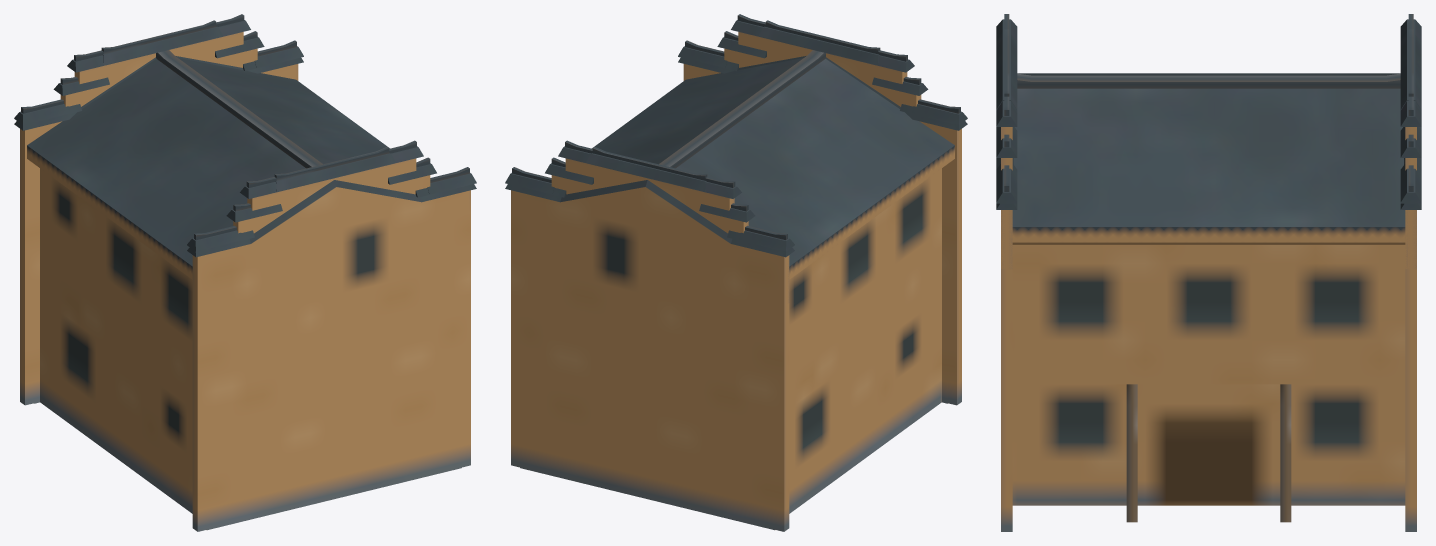
File: Hui_Building_Residential_L2_03_Mod.fbx
The picture shows the model from 3 angles, left to right: view 1: azimuth 30°, elevation 25°; view 2: azimuth 150°, elevation 25°; view 3: azimuth 270°, elevation 25°; orthographic projection. The views are drawn at different scales.
Parts seen in each view (by area): view 1: Hui_Building_Residential_WallL_L2_01_Mod, Hui_Building_Residential_L2_03_Mod, Hui_Building_Residential_WallL_L2_02_Mod, Hui_Building_Residential_WallR_L2_01_Mod, Hui_Building_Residential_WallL_L2_03_Mod, Hui_Building_Residential_WallR_L2_03_Mod, Hui_Building_Residential_WallR_L2_02_Mod; view 2: Hui_Building_Residential_L2_03_Mod, Hui_Building_Residential_WallR_L2_01_Mod, Hui_Building_Residential_WallR_L2_02_Mod, Hui_Building_Residential_WallL_L2_01_Mod, Hui_Building_Residential_WallR_L2_03_Mod, Hui_Building_Residential_WallL_L2_03_Mod, Hui_Building_Residential_WallL_L2_02_Mod; view 3: Hui_Building_Residential_L2_03_Mod, Hui_Building_Residential_WallL_L2_01_Mod, Hui_Building_Residential_WallR_L2_01_Mod, Hui_Building_Residential_WallL_L2_03_Mod, Hui_Building_Residential_WallR_L2_03_Mod.
Boxes of the visible parts, x1=… form: Hui_Building_Residential_WallL_L2_01_Mod: x1=187, y1=147, x2=476, y2=531; Hui_Building_Residential_L2_03_Mod: x1=27, y1=50, x2=389, y2=513; Hui_Building_Residential_WallL_L2_02_Mod: x1=187, y1=180, x2=476, y2=529; Hui_Building_Residential_WallR_L2_01_Mod: x1=14, y1=20, x2=303, y2=405; Hui_Building_Residential_WallL_L2_03_Mod: x1=187, y1=140, x2=476, y2=530; Hui_Building_Residential_WallR_L2_03_Mod: x1=14, y1=14, x2=303, y2=403; Hui_Building_Residential_WallR_L2_02_Mod: x1=14, y1=56, x2=303, y2=130; Hui_Building_Residential_L2_03_Mod: x1=592, y1=50, x2=954, y2=513; Hui_Building_Residential_WallR_L2_01_Mod: x1=505, y1=147, x2=794, y2=531; Hui_Building_Residential_WallR_L2_02_Mod: x1=505, y1=180, x2=794, y2=529; Hui_Building_Residential_WallL_L2_01_Mod: x1=678, y1=20, x2=967, y2=405; Hui_Building_Residential_WallR_L2_03_Mod: x1=505, y1=140, x2=794, y2=530; Hui_Building_Residential_WallL_L2_03_Mod: x1=678, y1=14, x2=967, y2=403; Hui_Building_Residential_WallL_L2_02_Mod: x1=678, y1=56, x2=967, y2=401; Hui_Building_Residential_L2_03_Mod: x1=1012, y1=73, x2=1405, y2=522; Hui_Building_Residential_WallL_L2_01_Mod: x1=996, y1=29, x2=1017, y2=531; Hui_Building_Residential_WallR_L2_01_Mod: x1=1400, y1=29, x2=1421, y2=531; Hui_Building_Residential_WallL_L2_03_Mod: x1=996, y1=14, x2=1017, y2=269; Hui_Building_Residential_WallR_L2_03_Mod: x1=1400, y1=14, x2=1421, y2=269.
Bounding box in the file's own units: 730 × 835 × 819.
